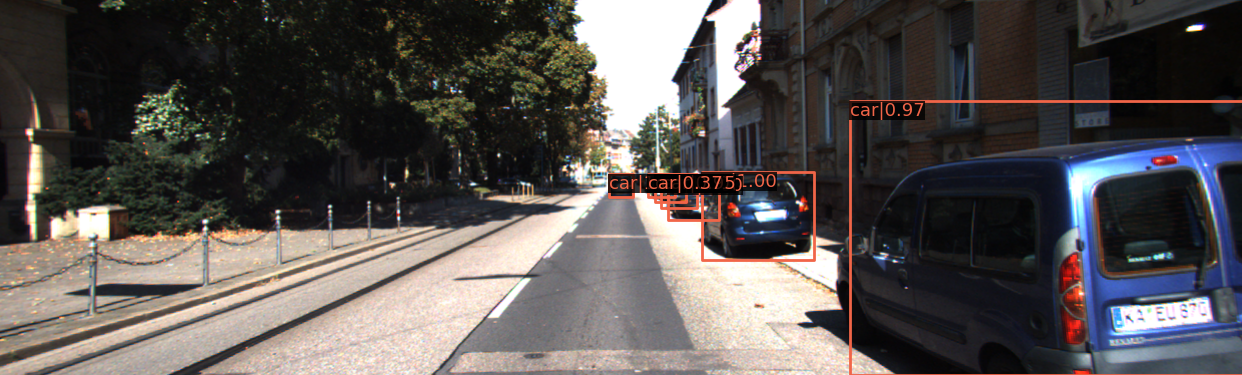car: (830, 127, 1242, 375), (702, 171, 817, 264), (673, 181, 723, 222), (666, 178, 715, 214), (652, 175, 682, 202), (610, 176, 633, 198)
